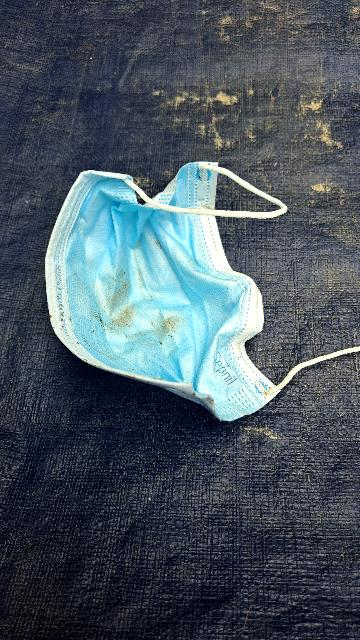mask: (25, 111, 359, 419)
